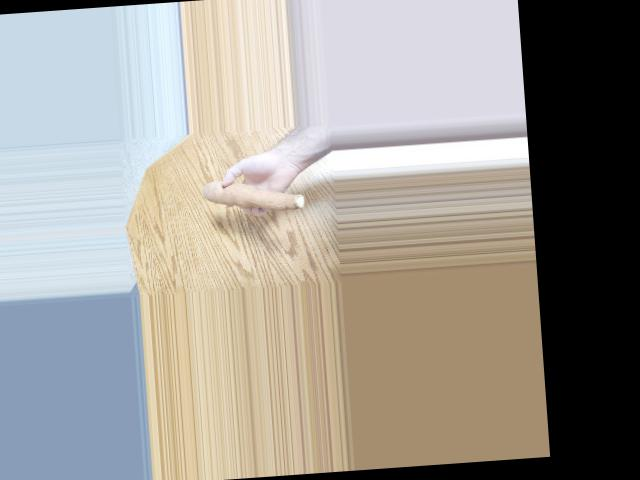sweet_potato: (196, 179, 301, 216)
